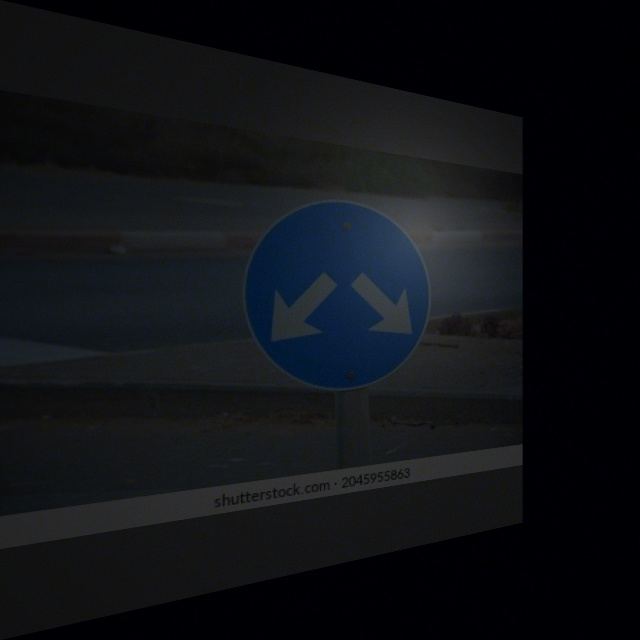Pass_Either_Side: (243, 190, 435, 403)
